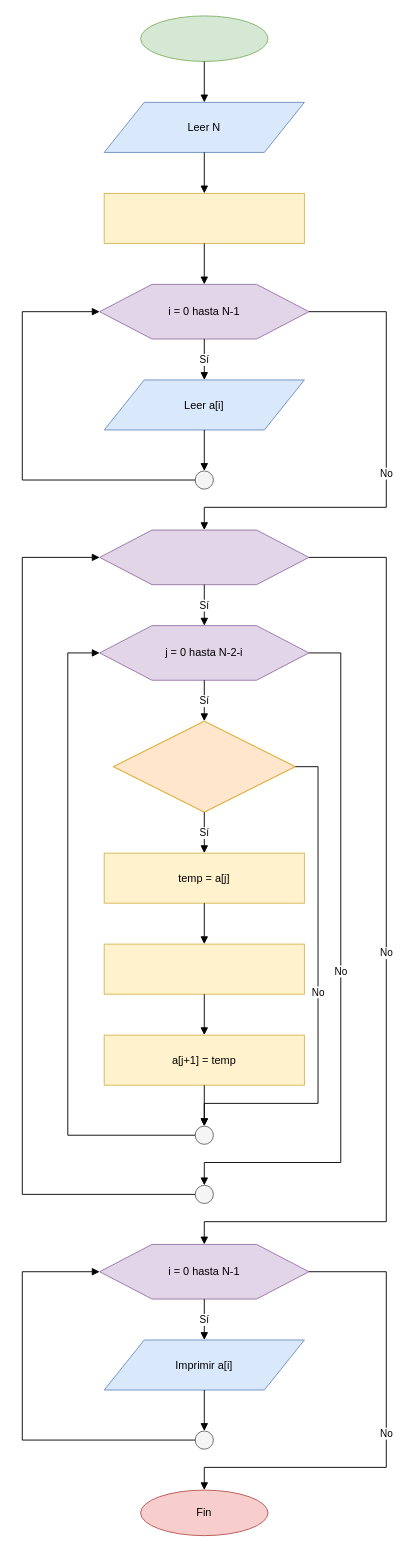
Some shapes in this 410 by 1552 pixel diagram are drawn without their labels. The shapes that lost their labels are listed below. From the top down, each one's centre as x and y in pixels, then its label:
At (204,38): "Inicio".
At (203,217): "Declarar a[N]".
At (204,557): "i = 0 hasta N-2".
At (203,766): "a[j] > a[j+1]".
At (203,968): "a[j] = a[j+1]".
